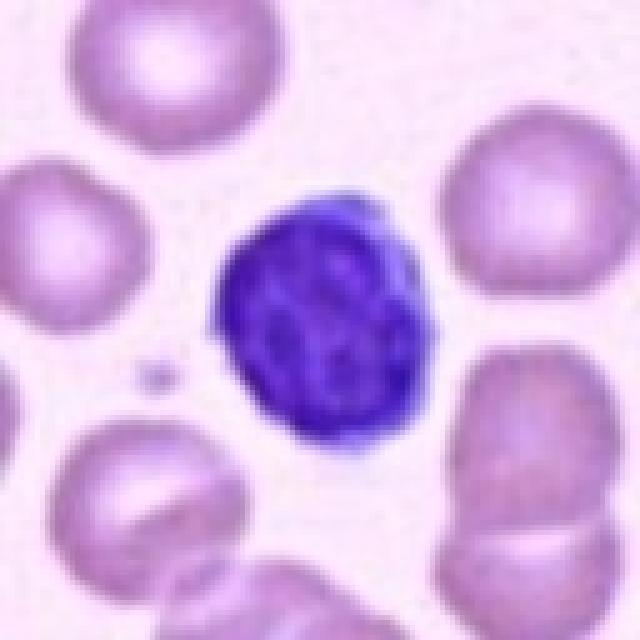lympho: (203, 184, 446, 453)
